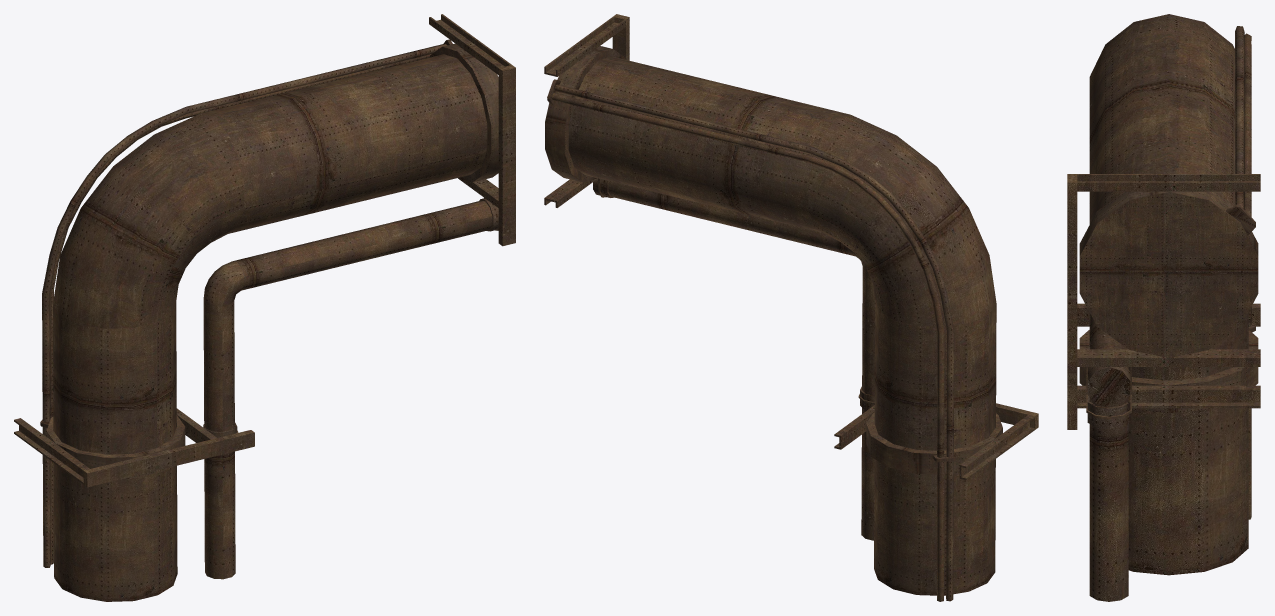
The model's file is pipeset32d_corner128d_001a.glb.
The picture shows the model from 3 angles, left to right: view 1: azimuth 30°, elevation 25°; view 2: azimuth 150°, elevation 25°; view 3: azimuth 270°, elevation 25°; orthographic projection. The views are drawn at different scales.
Parts seen in each view (by area): view 1: 0_pipeset_metal; view 2: 0_pipeset_metal; view 3: 0_pipeset_metal.
Part boxes in pixels (bbox=[...]): 0_pipeset_metal: bbox=[14, 14, 515, 601]; 0_pipeset_metal: bbox=[544, 14, 1038, 601]; 0_pipeset_metal: bbox=[1067, 14, 1260, 601].
Bounding box in the file's own units: 3.25 × 3.25 × 0.9654.
1 material, 1 textured.
